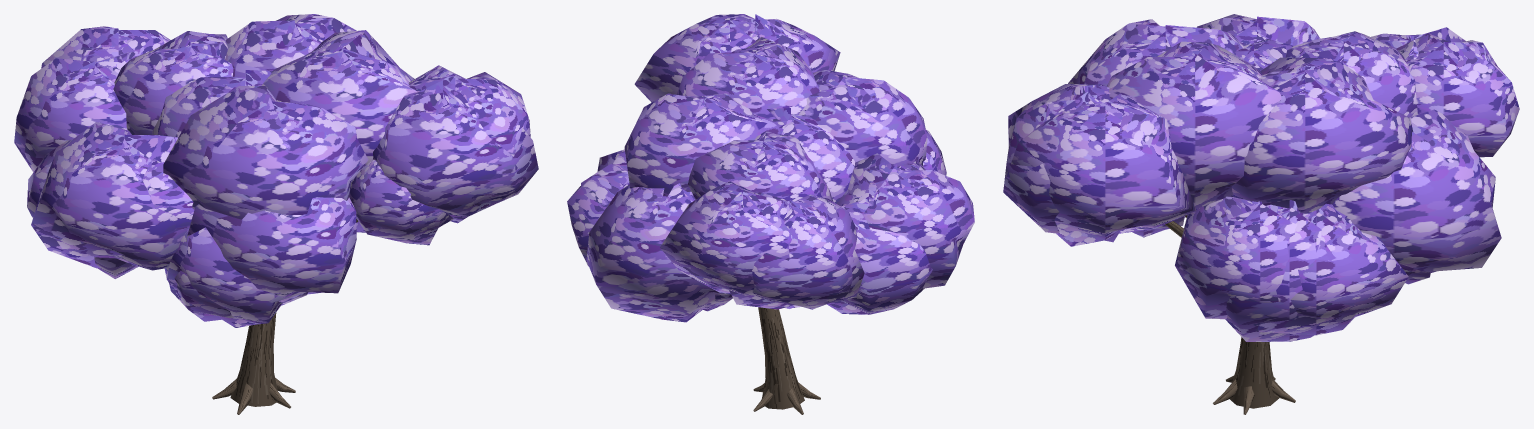
File: tree_jacaranda.glb
3 renders of one model, left to right at view 1: azimuth 30°, elevation 25°; view 2: azimuth 150°, elevation 25°; view 3: azimuth 270°, elevation 25°, orthographic. The views are drawn at different scales.
Visible parts, largest first — view 1: canopy, trunk; view 2: canopy, trunk; view 3: canopy, trunk.
Boxes of the visible parts, left/top/right/bottom form: canopy: left=14, top=14, right=538, bottom=327; trunk: left=212, top=219, right=358, bottom=414; canopy: left=567, top=14, right=974, bottom=322; trunk: left=753, top=307, right=820, bottom=414; canopy: left=1003, top=14, right=1519, bottom=341; trunk: left=1165, top=215, right=1295, bottom=414.
Size of the model in its own units: 10.16 by 8.35 by 10.42.
Materials: 2 (2 with a texture image).
